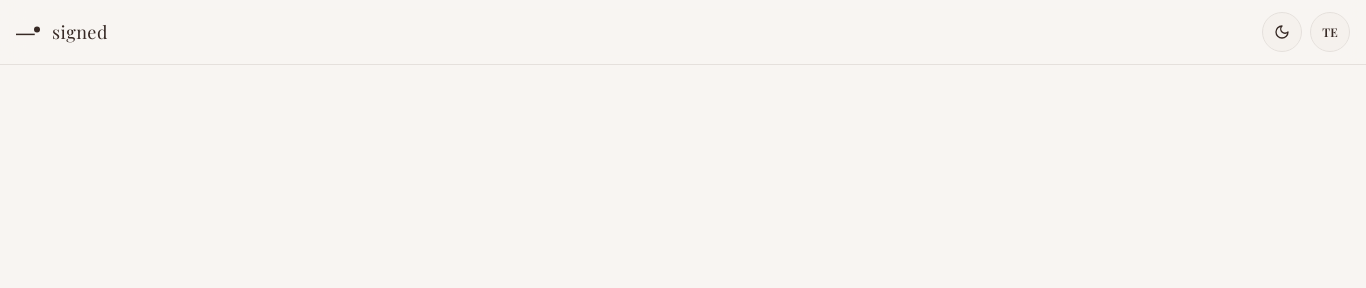
it: Navbar › Account dropdown menu › shows Sign out when logged in
Click the button with aria-label "Account".
click(1330, 32)  # box [1310, 12, 1350, 52]
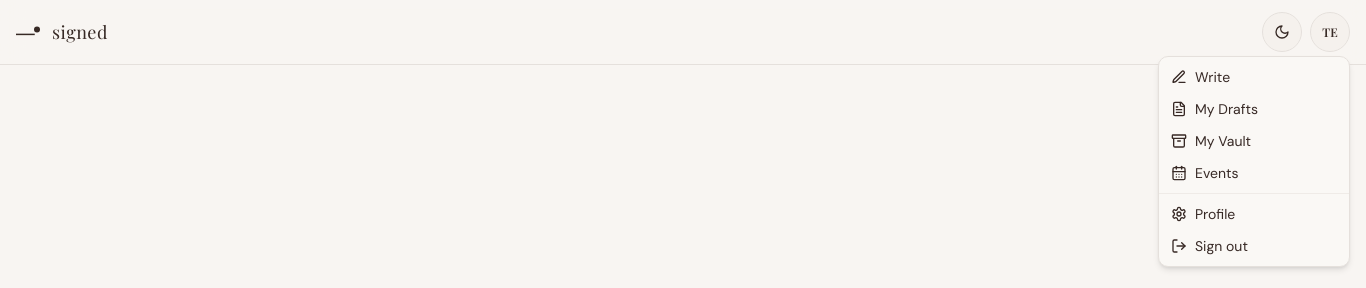
Now the menu item "Sign out" is shown, box [1171, 237, 1248, 255]
